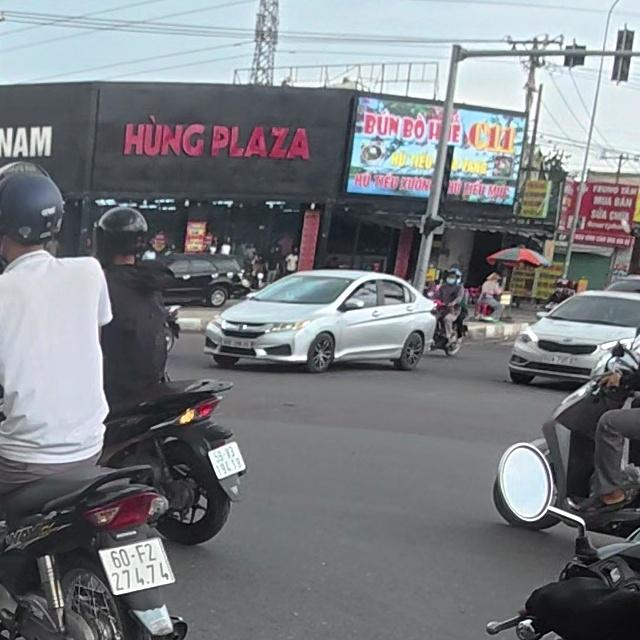license-plate: (97, 537, 176, 597), (207, 441, 245, 480)
